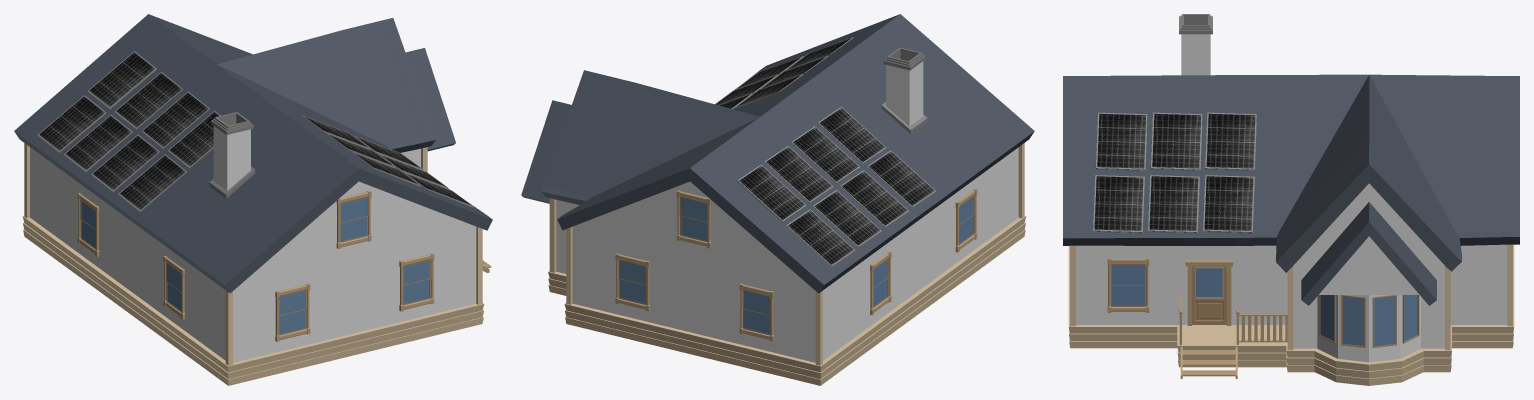
File: low_poly_house.glb
3 renders of one model, left to right at view 1: azimuth 30°, elevation 25°; view 2: azimuth 150°, elevation 25°; view 3: azimuth 270°, elevation 25°, orthographic. The views are drawn at different scales.
Visible parts, largest first — view 1: low poly house, solar.007, solar.014, solar.013, solar.011, solar.012, solar.008, solar.009, solar.010, solar.003, solar.002, solar.004 (+3 smaller); view 2: low poly house, solar.007, solar.008, solar.013, solar.014, solar.012, solar.011, solar.010, solar.009, solar.004, solar.001, solar.006 (+2 smaller); view 3: low poly house, solar.003, solar.002, solar.004, solar.001, solar.005, solar.006.
Boxes of the visible parts, left/top/right/bottom form: low poly house: left=14, top=14, right=492, bottom=385; solar.007: left=87, top=51, right=157, bottom=109; solar.014: left=37, top=95, right=106, bottom=152; solar.013: left=64, top=114, right=132, bottom=171; solar.011: left=118, top=154, right=187, bottom=211; solar.012: left=91, top=134, right=159, bottom=191; solar.008: left=114, top=71, right=182, bottom=129; solar.009: left=141, top=91, right=209, bottom=148; solar.010: left=168, top=111, right=220, bottom=168; solar.003: left=353, top=135, right=422, bottom=170; solar.002: left=379, top=154, right=448, bottom=188; solar.004: left=301, top=115, right=370, bottom=149; low poly house: left=521, top=14, right=1034, bottom=385; solar.007: left=737, top=164, right=806, bottom=222; solar.008: left=764, top=146, right=833, bottom=203; solar.013: left=812, top=190, right=881, bottom=247; solar.014: left=786, top=209, right=855, bottom=266; solar.012: left=840, top=170, right=908, bottom=227; solar.011: left=867, top=150, right=936, bottom=207; solar.010: left=818, top=107, right=886, bottom=163; solar.009: left=792, top=126, right=860, bottom=182; solar.004: left=734, top=74, right=803, bottom=109; solar.001: left=734, top=56, right=803, bottom=90; solar.006: left=785, top=37, right=853, bottom=71; low poly house: left=1063, top=14, right=1519, bottom=385; solar.003: left=1203, top=175, right=1254, bottom=233; solar.002: left=1148, top=175, right=1199, bottom=233; solar.004: left=1205, top=112, right=1256, bottom=170; solar.001: left=1093, top=175, right=1144, bottom=233; solar.005: left=1150, top=112, right=1202, bottom=170; solar.006: left=1095, top=112, right=1147, bottom=170.
Bounding box in the file's own units: 13.8 × 8.05 × 14.71.
Materials: 29 (15 with a texture image).
